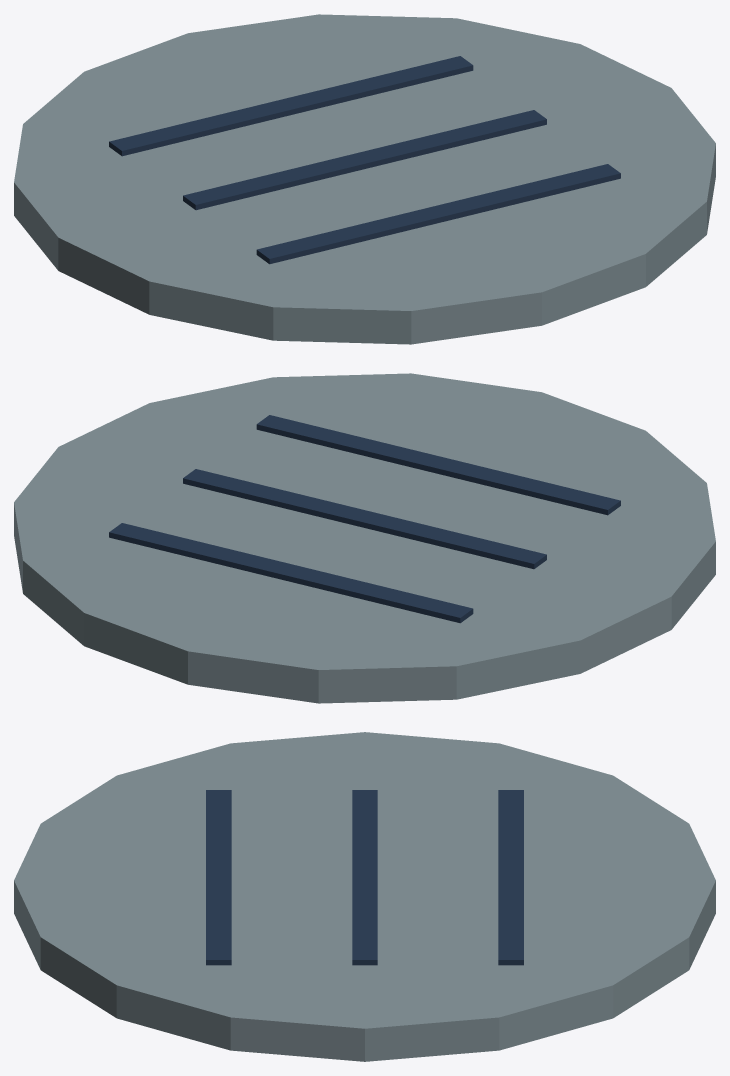
Rendered from SewerCover.fbx.
The picture shows the model from 3 angles, top to bottom: view 1: azimuth 30°, elevation 25°; view 2: azimuth 150°, elevation 25°; view 3: azimuth 270°, elevation 25°; orthographic projection.
Parts seen in each view (by area): view 1: Cover, DrainSlot.002, DrainSlot, DrainSlot.001; view 2: Cover, DrainSlot, DrainSlot.002, DrainSlot.001; view 3: Cover, DrainSlot, DrainSlot.001, DrainSlot.002.
Part boxes in pixels (x1,y1,x2,y2): Cover: (14, 14, 715, 344); DrainSlot.002: (109, 56, 473, 156); DrainSlot: (256, 164, 620, 264); DrainSlot.001: (183, 110, 546, 210); Cover: (14, 373, 715, 703); DrainSlot: (256, 415, 620, 515); DrainSlot.002: (109, 523, 473, 623); DrainSlot.001: (183, 469, 546, 569); Cover: (14, 732, 715, 1061); DrainSlot: (206, 790, 231, 965); DrainSlot.001: (352, 790, 377, 965); DrainSlot.002: (498, 790, 523, 965).
Size of the model in its own units: 0.96 by 0.058 by 0.96.
